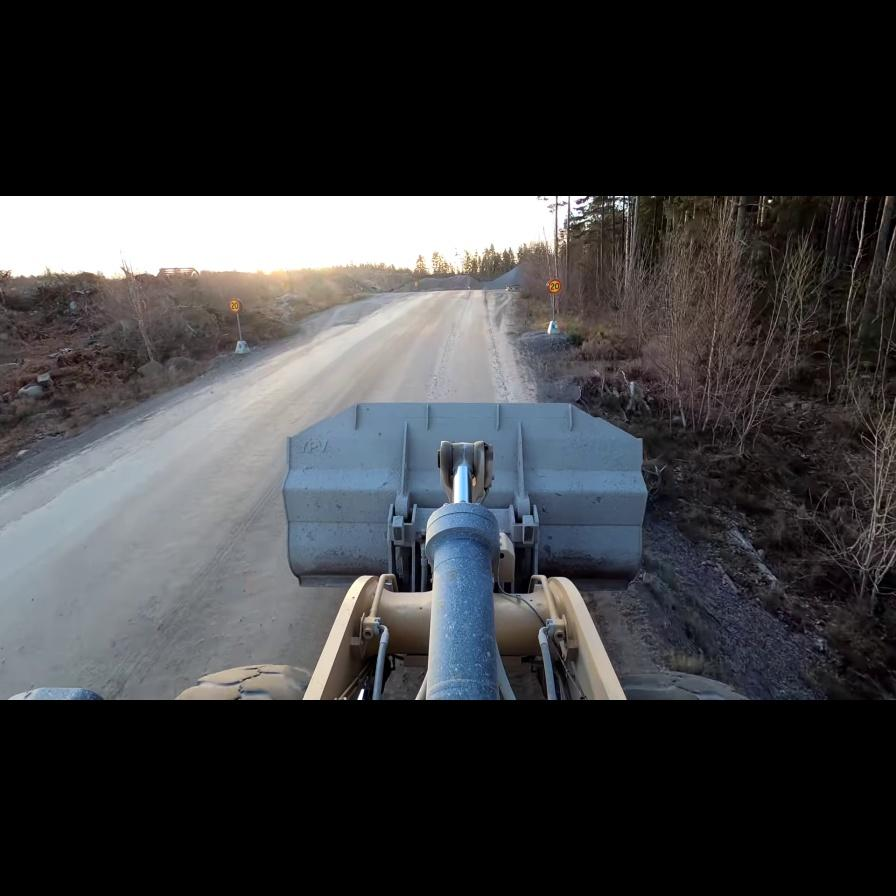anchor: (438, 440, 492, 504)
